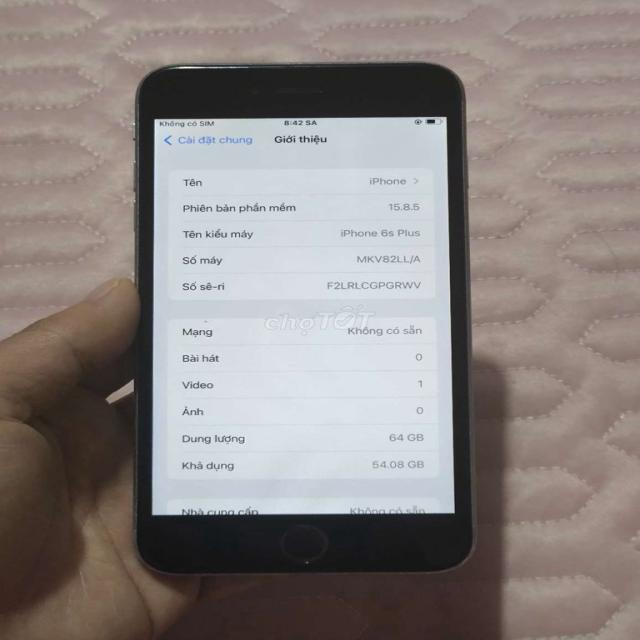gen_6: (135, 63, 473, 573)
